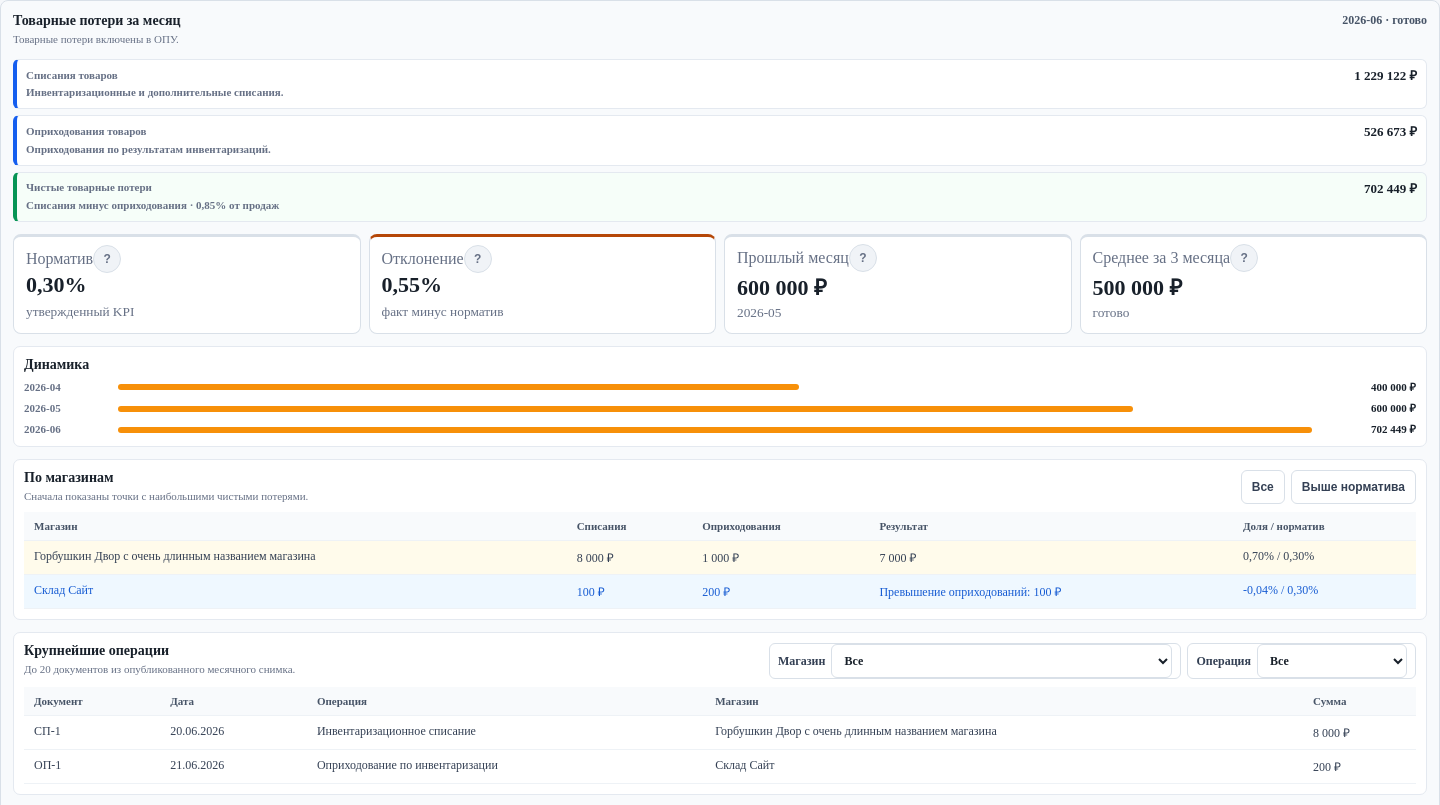
Test: executive inventory loss › renders comparisons, filters stores and filters both operation types
Expected: the element named "Динамика товарных потерь" shows "2026-04", left=24, top=381, right=61, bottom=393
Expected: the text "Склад Сайт" in the row of "Превышение оприходований: 100 ₽" is shown, left=34, top=583, right=93, bottom=597
Click the button "Выше норматива" at (1353, 487), box left=1291, top=470, right=1416, bottom=504
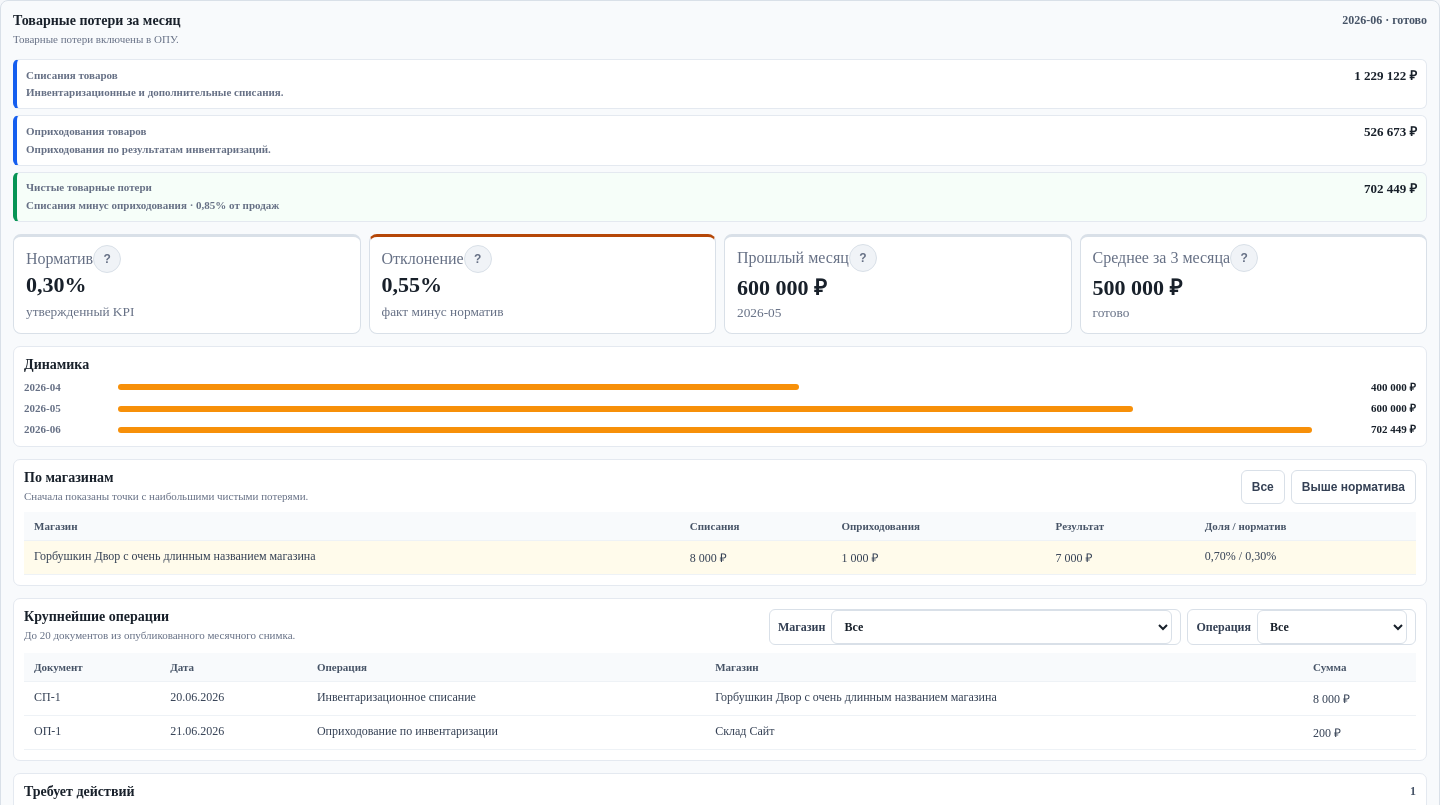
Select "Оприходования" in the dropdown named "Тип товарной операции" at (1332, 627), box left=1257, top=610, right=1407, bottom=644
(page scrolled)
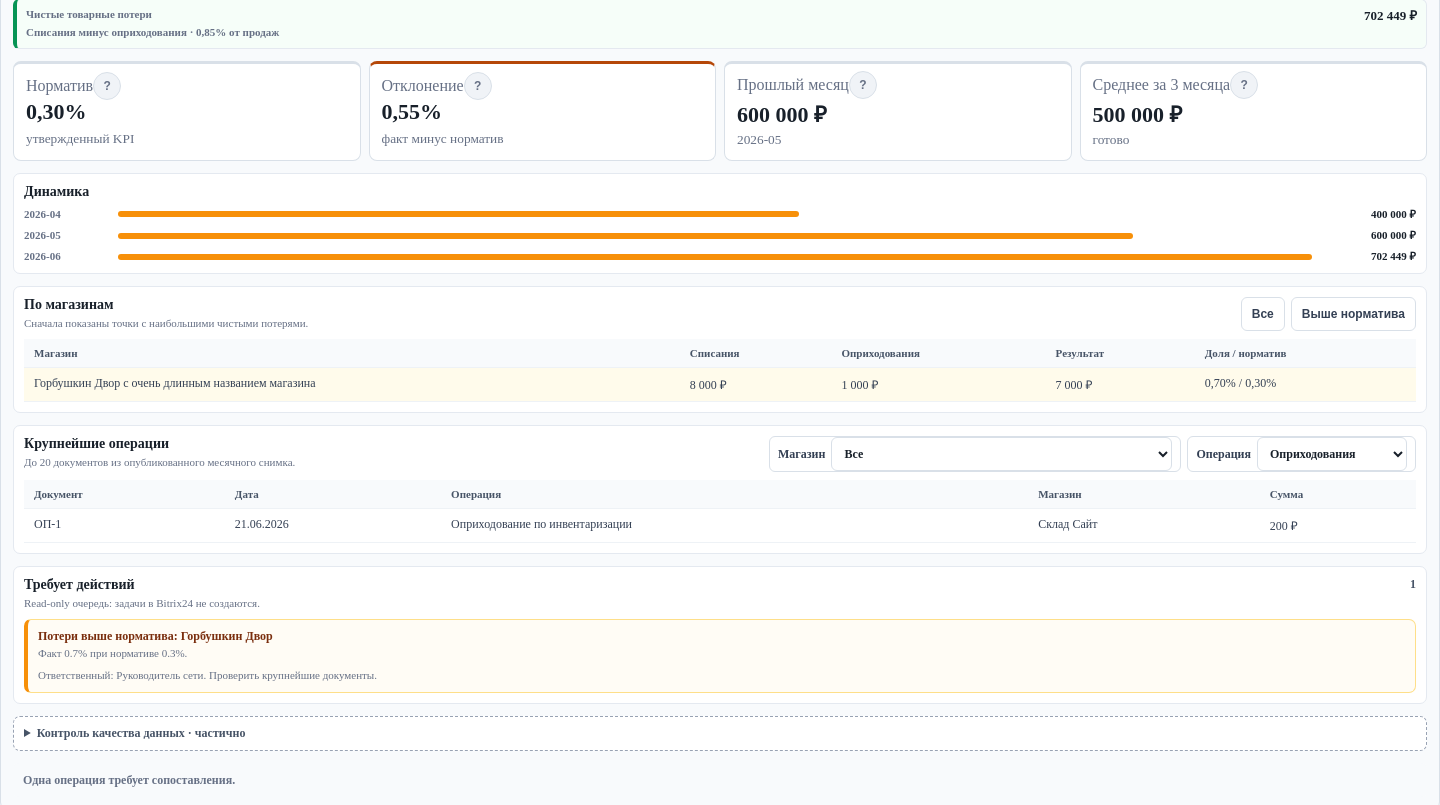
Expected: the text "ОП-1" is shown, left=24, top=509, right=225, bottom=543
Result: the text "СП-1" is gone
